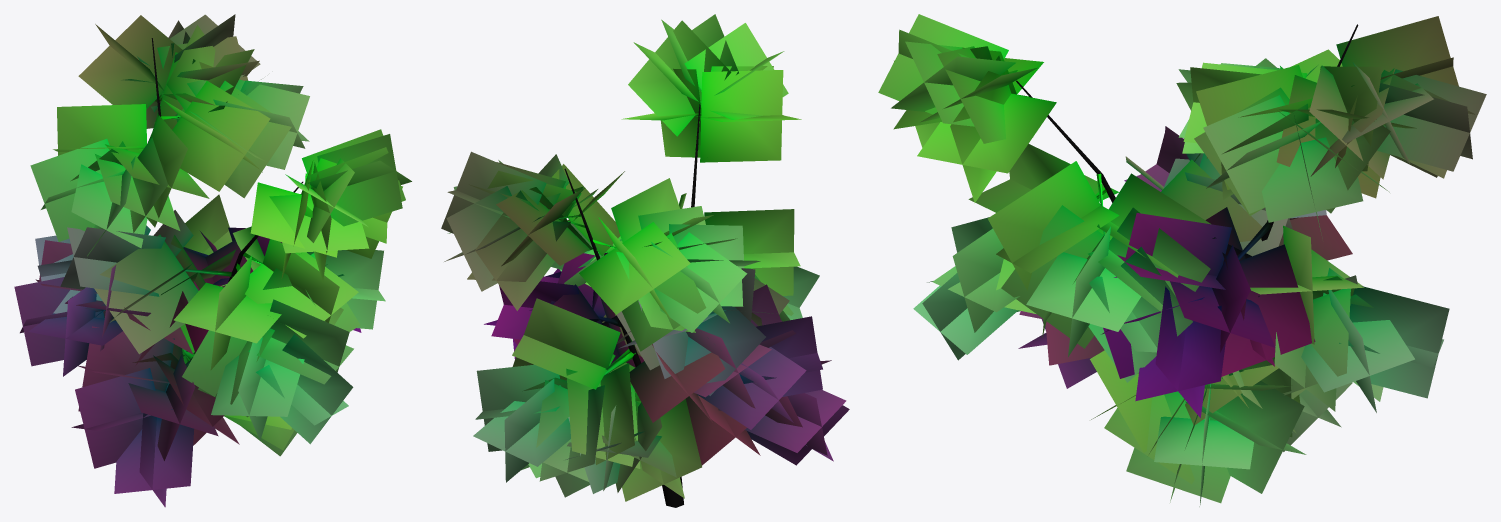
File: URP_P14_Tree_8_LOD_3.fbx
3 views of the same model, side by side, from view 1: azimuth 30°, elevation 25°; view 2: azimuth 150°, elevation 25°; view 3: azimuth 270°, elevation 25° (orthographic). The views are drawn at different scales.
Visible parts, largest first — view 1: Tree_8_LOD_3; view 2: Tree_8_LOD_3; view 3: Tree_8_LOD_3.
Boxes of the visible parts, x1,y1,x2,y2 form: Tree_8_LOD_3: (14, 14, 411, 507); Tree_8_LOD_3: (441, 14, 849, 507); Tree_8_LOD_3: (878, 14, 1486, 506).
Size of the model in its own units: 414 by 457 by 548.
